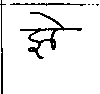e_matra: (36, 13, 68, 28)
